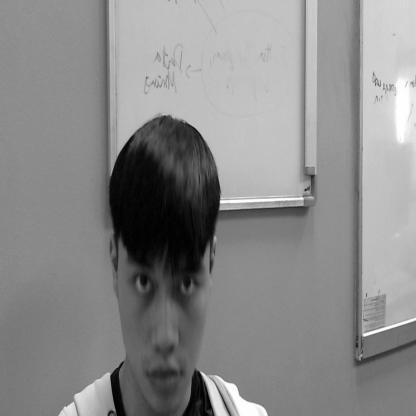Open-Eyes: (126, 255, 205, 307)
